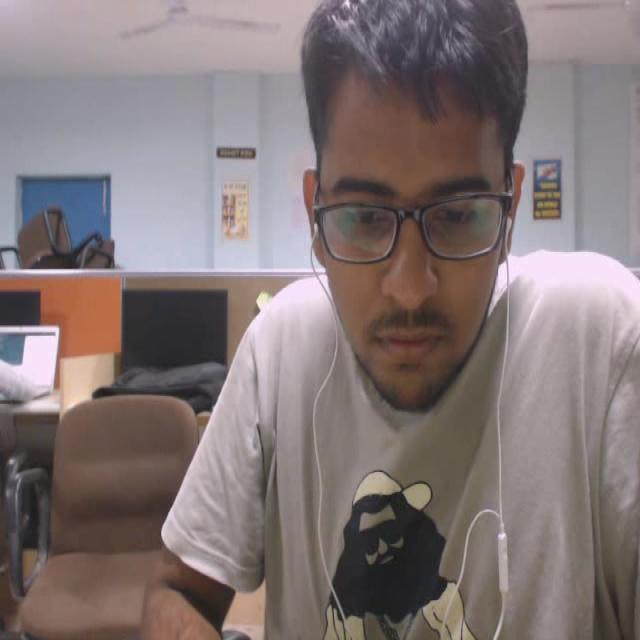Bored: (264, 0, 550, 428)
